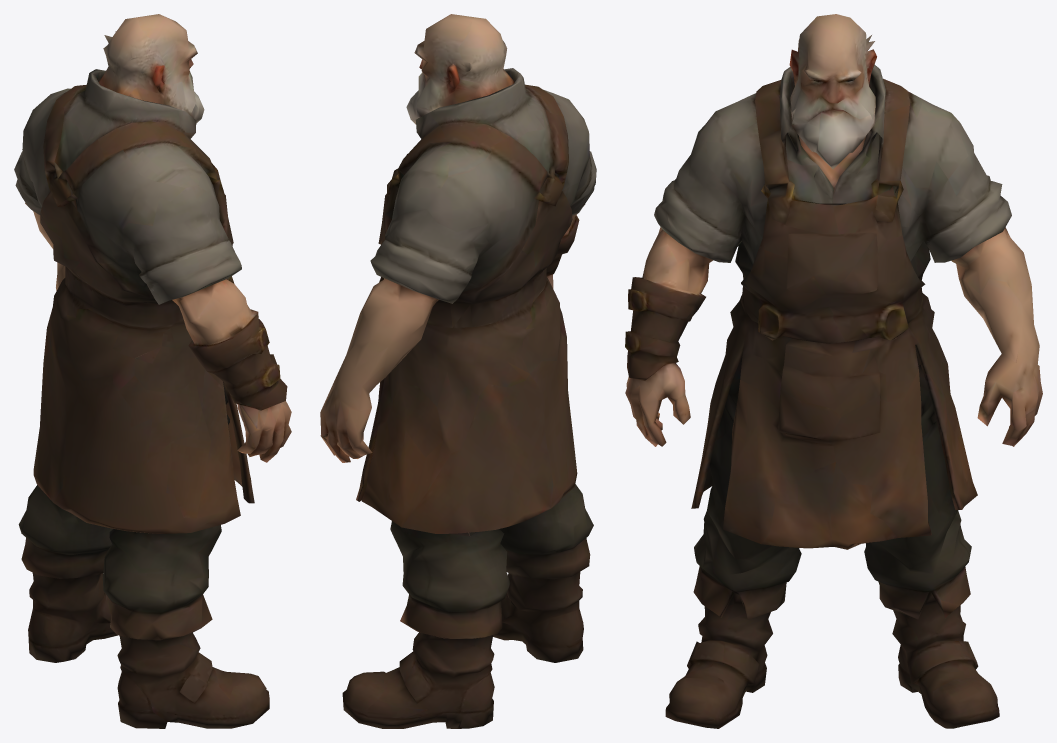
Rendered from model-npc-oswin-01.glb.
3 renders of one model, left to right at view 1: azimuth 30°, elevation 25°; view 2: azimuth 150°, elevation 25°; view 3: azimuth 270°, elevation 25°, orthographic. The views are drawn at different scales.
Parts seen in each view (by area): view 1: tripo_node_4408a078-0b87-451f-8bca-e0c77e0fde11; view 2: tripo_node_4408a078-0b87-451f-8bca-e0c77e0fde11; view 3: tripo_node_4408a078-0b87-451f-8bca-e0c77e0fde11.
Part boxes in pixels (bbox=[...]): tripo_node_4408a078-0b87-451f-8bca-e0c77e0fde11: bbox=[14, 14, 291, 728]; tripo_node_4408a078-0b87-451f-8bca-e0c77e0fde11: bbox=[320, 14, 596, 728]; tripo_node_4408a078-0b87-451f-8bca-e0c77e0fde11: bbox=[625, 14, 1042, 728].
Size of the model in its own units: 0.502 by 1.9 by 1.05.
1 material, 1 textured.
